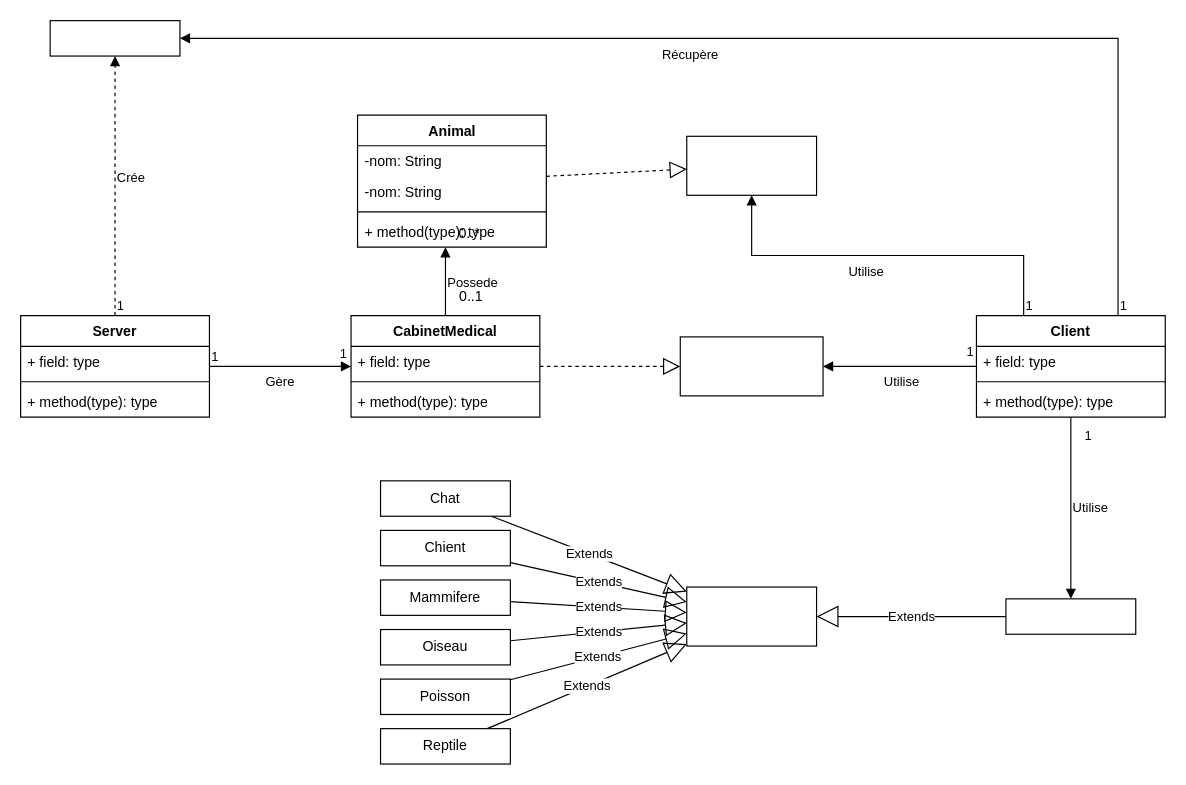
Some shapes in this 1186 by 785 pixel diagram are drawn without their labels. Each missing label, with the centre of its shape:
"Espece" goes at point (751, 616).
"Ours" goes at point (1070, 616).
"Registre" goes at point (114, 37).
"«interface» IAnimal" goes at point (751, 165).
"«interface» ICabinetMedical" goes at point (751, 366).
